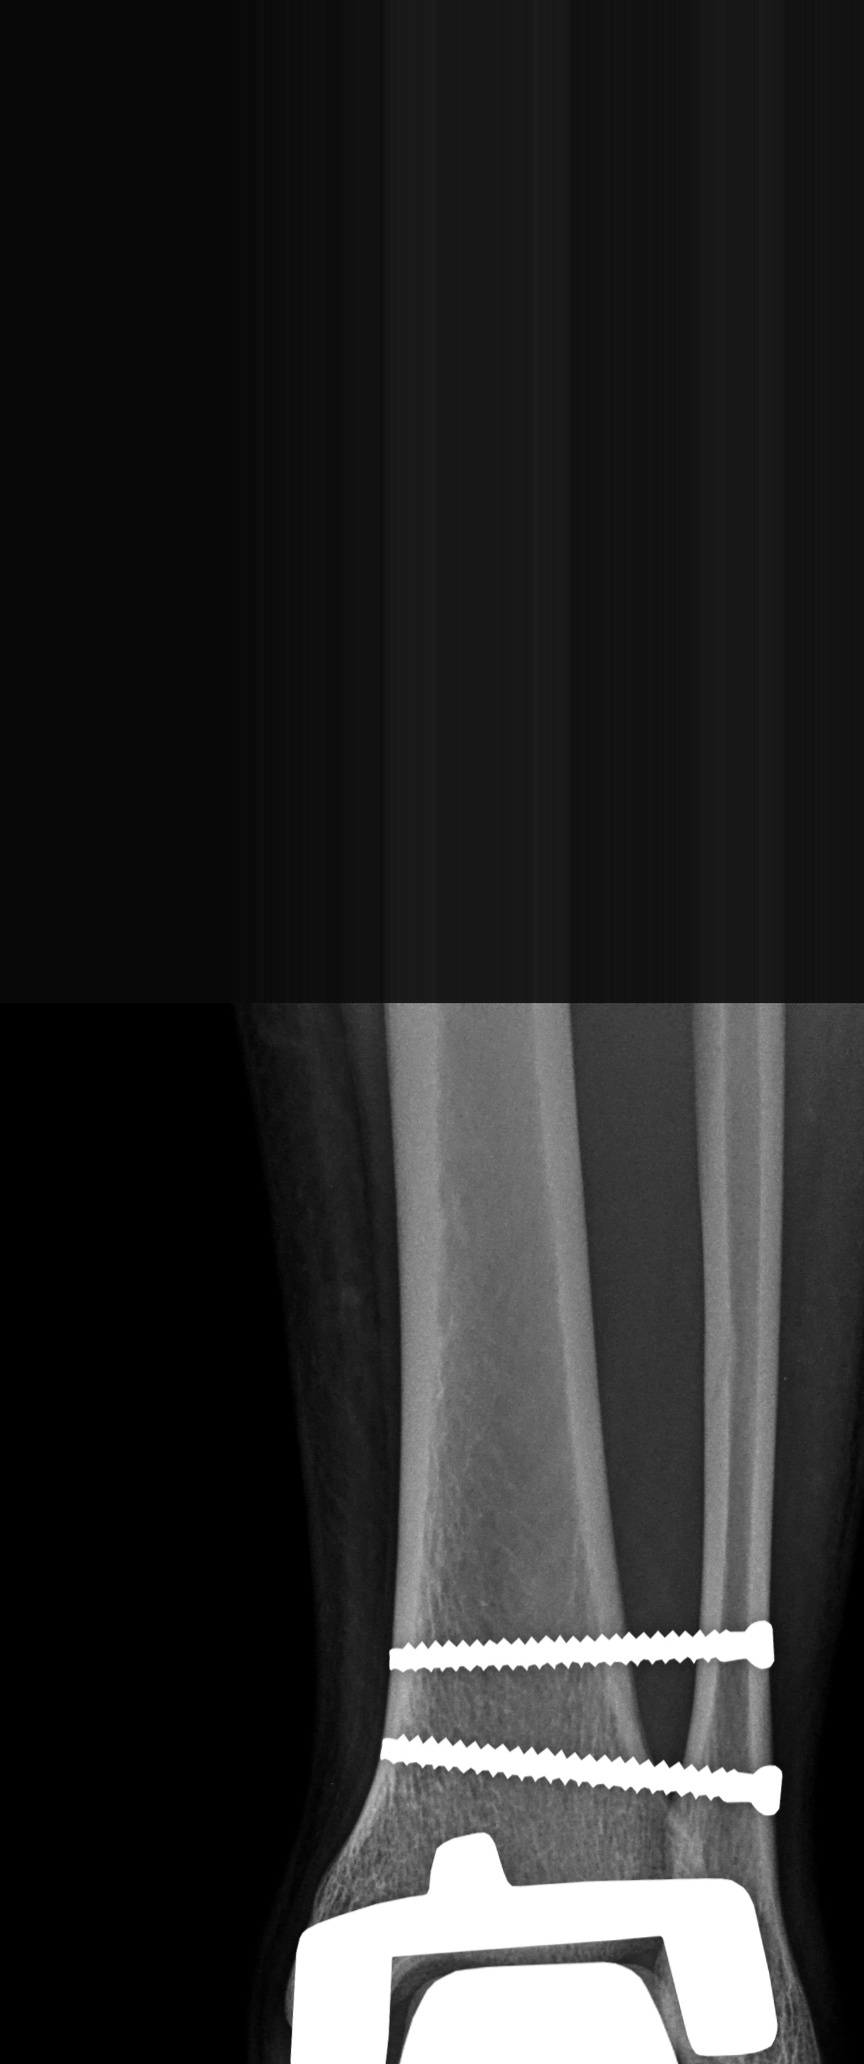Ankle - Agility - DePuy: (259, 1582, 821, 2064)
